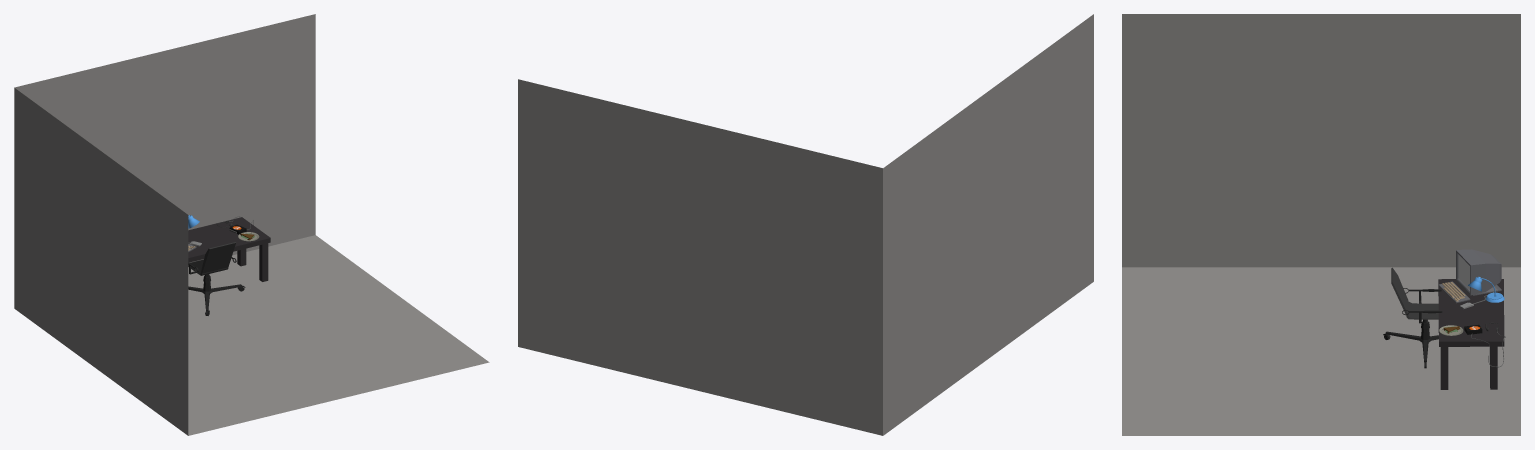
File: Room.fbx
3 views of the same model, side by side, from view 1: azimuth 30°, elevation 25°; view 2: azimuth 150°, elevation 25°; view 3: azimuth 270°, elevation 25° (orthographic). The views are drawn at different scales.
Parts seen in each view (by area): view 1: Plane, Table, Chair; view 2: Plane; view 3: Plane, Table, Computer, Chair.
Part boxes in pixels (bbox=[...]): Plane: bbox=[14, 14, 489, 435]; Table: bbox=[188, 217, 270, 281]; Chair: bbox=[188, 242, 241, 311]; Plane: bbox=[518, 14, 1093, 435]; Plane: bbox=[1122, 14, 1520, 435]; Table: bbox=[1438, 279, 1504, 389]; Computer: bbox=[1456, 249, 1501, 295]; Chair: bbox=[1385, 267, 1442, 362].
Bounding box in the file's own units: 770 × 541 × 770.
